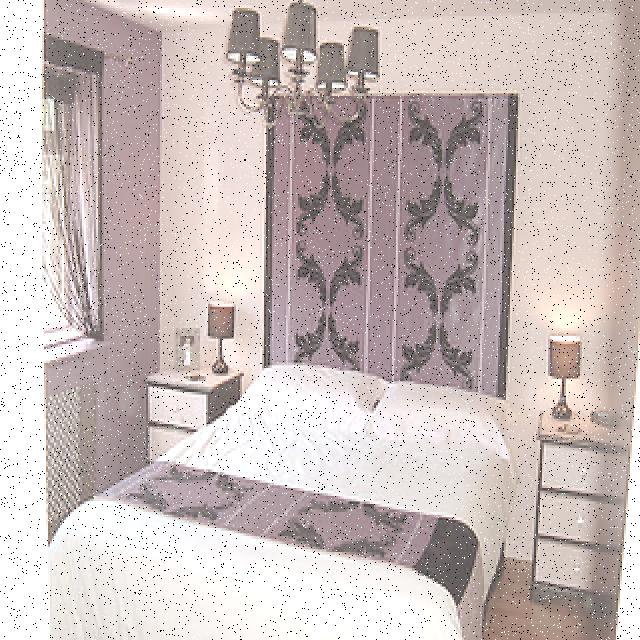bed: (56, 358, 516, 640)
